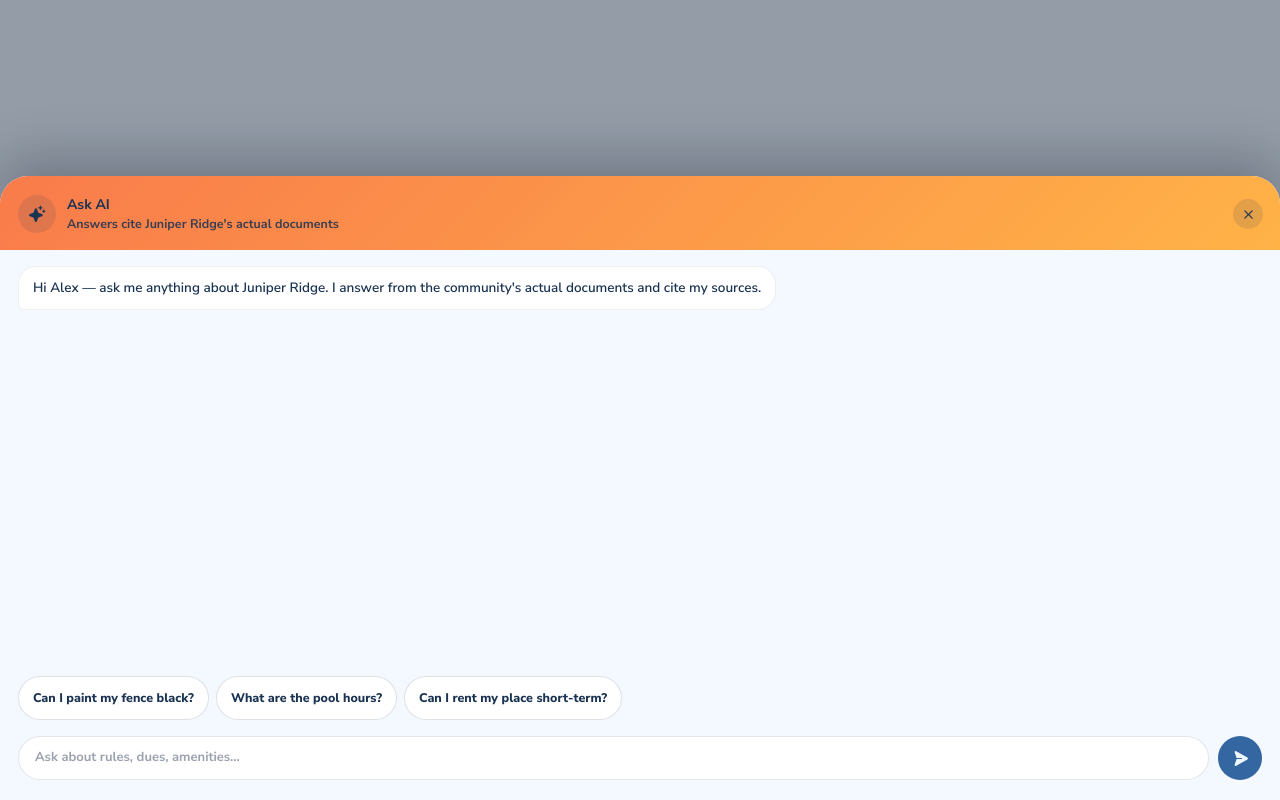
Test: free-typed question gets the honest fallback with escalation
Type "Can I build a moat?" into the field with placeholder "Ask about rules, dues, amenities…".
click(614, 758); type("Can I build a moat?")  # box [18,736,1209,780]
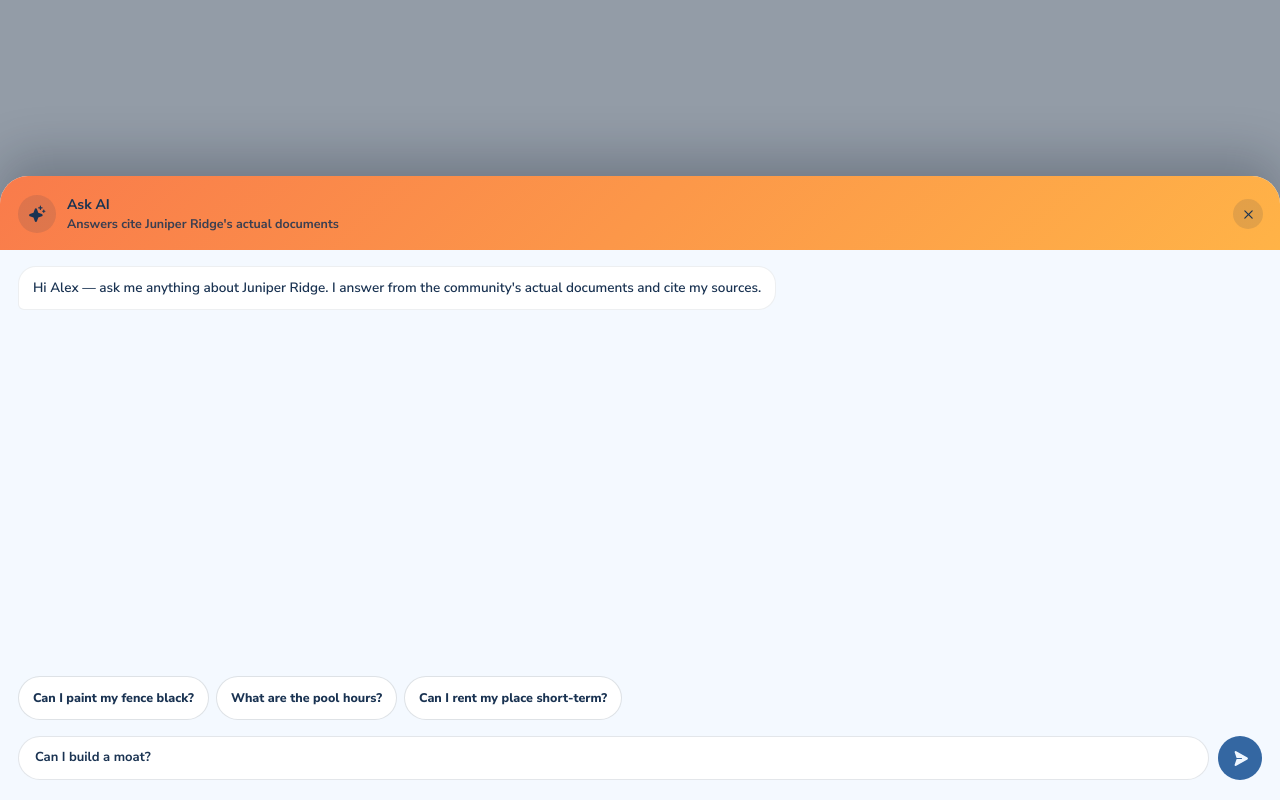
Press Enter in the field with placeholder "Ask about rules, dues, amenities…", box [18,736,1209,780]
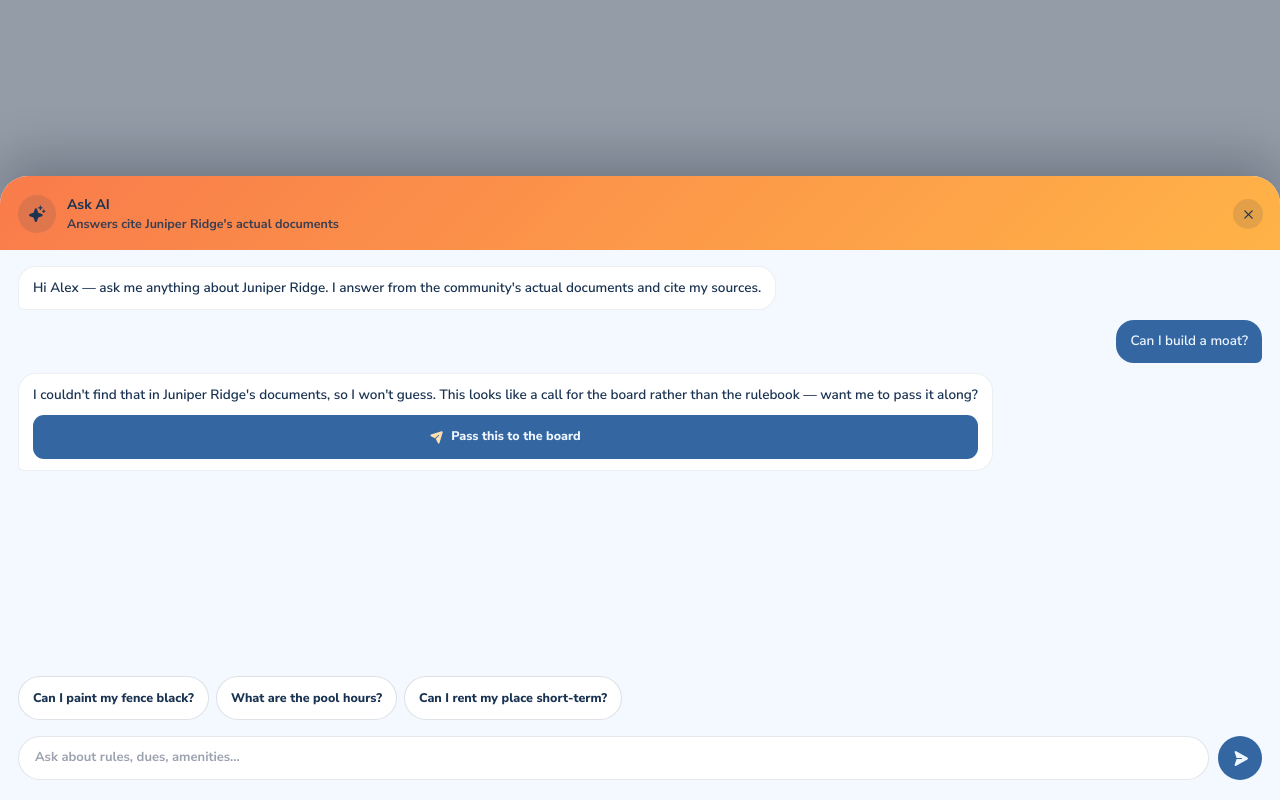
Now the text "I won't guess" is shown, box [33,384,978,404]
Now the button "Pass this to the board" is shown, box [33,415,978,459]
